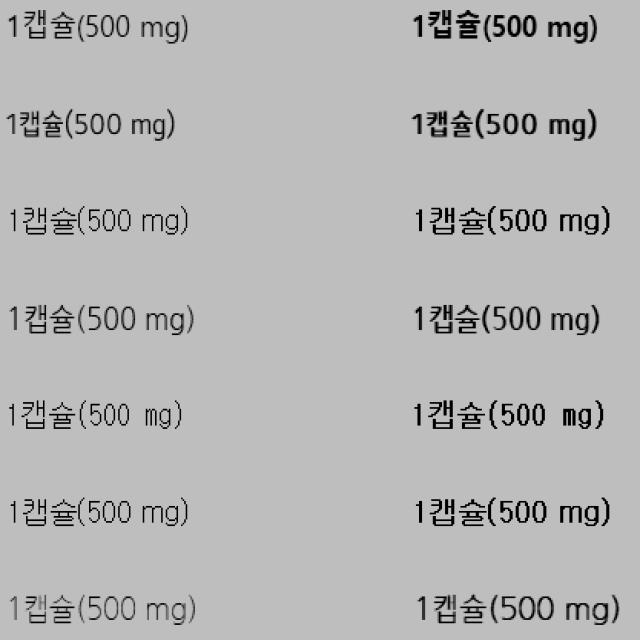bold: (403, 386, 609, 443), (410, 583, 626, 634), (411, 193, 613, 245), (408, 486, 613, 536), (404, 2, 604, 53), (406, 97, 605, 147), (408, 292, 606, 338)
normal: (5, 288, 200, 345), (3, 1, 196, 56), (2, 386, 188, 442), (6, 482, 192, 538), (5, 192, 195, 246), (6, 96, 182, 152), (5, 582, 200, 631)
